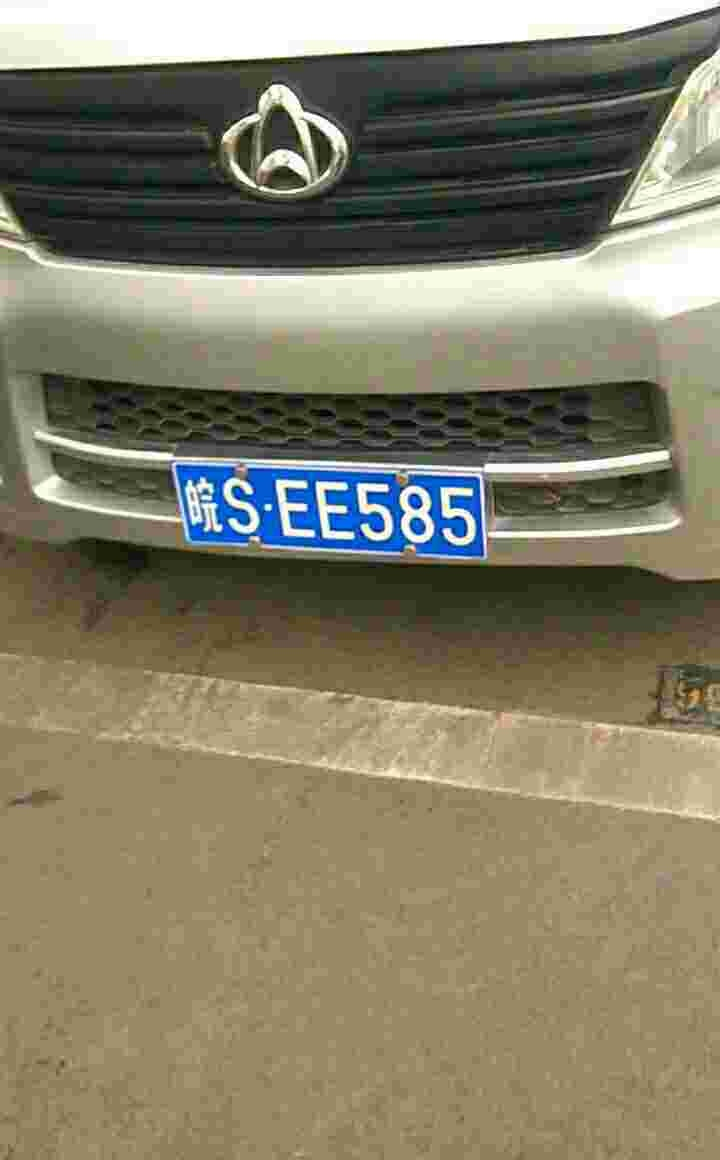car: (162, 454, 498, 570)
